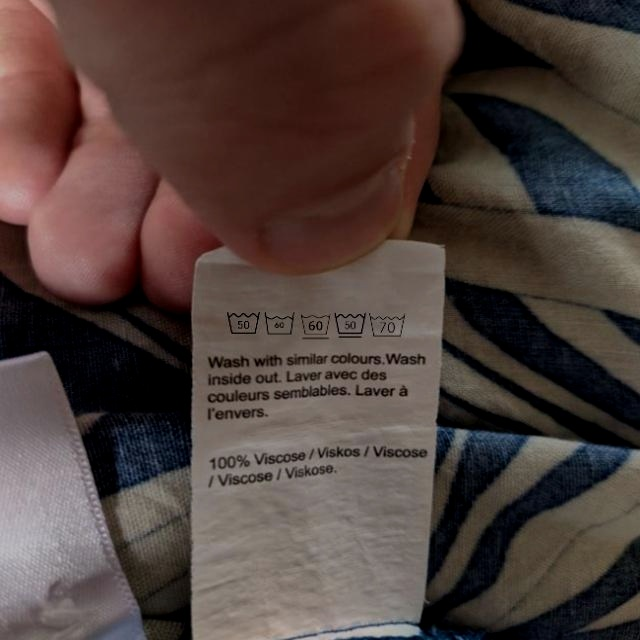50C: (225, 309, 263, 338), (336, 310, 367, 341)
60C: (264, 308, 296, 339), (302, 310, 332, 341)
70C: (369, 312, 409, 340)
